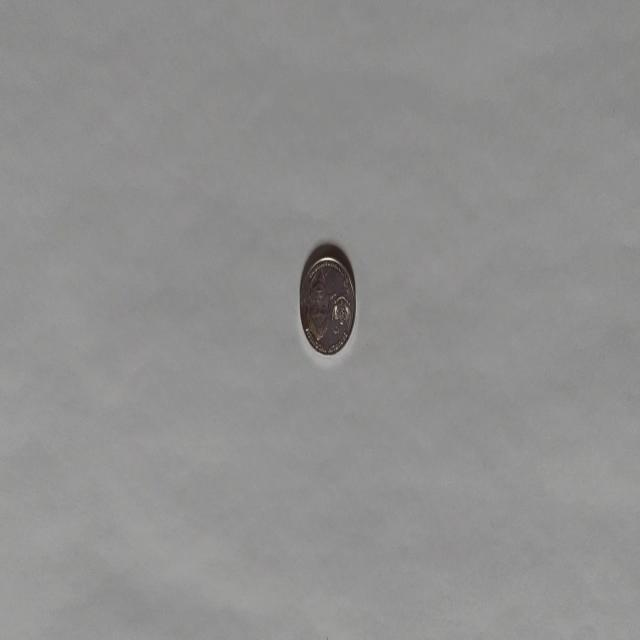dua ratus rupiah: (298, 248, 356, 356)
